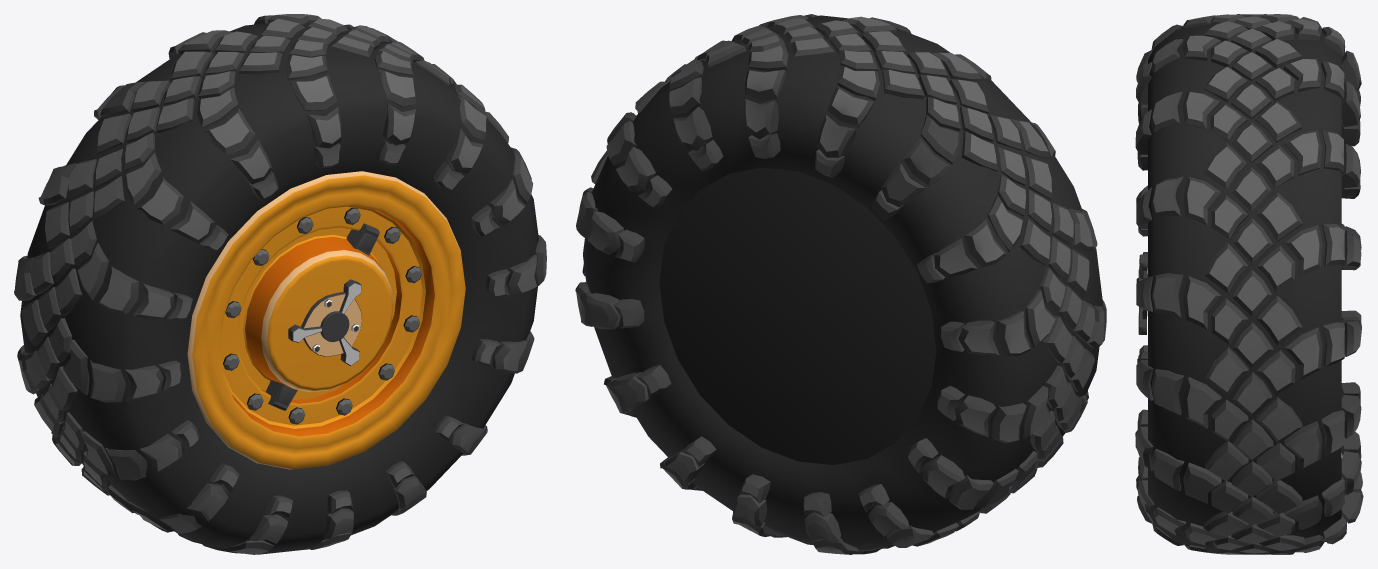
File: wheel_09.fbx
3 renders of one model, left to right at view 1: azimuth 30°, elevation 25°; view 2: azimuth 150°, elevation 25°; view 3: azimuth 270°, elevation 25°, orthographic.
Parts seen in each view (by area): view 1: wheel_09; view 2: wheel_09; view 3: wheel_09.
Boxes of the visible parts, left/top/right/bottom form: wheel_09: left=14, top=14, right=546, bottom=554; wheel_09: left=575, top=14, right=1106, bottom=554; wheel_09: left=1135, top=14, right=1363, bottom=554.
Bounding box in the file's own units: 135 × 134 × 56.57.
